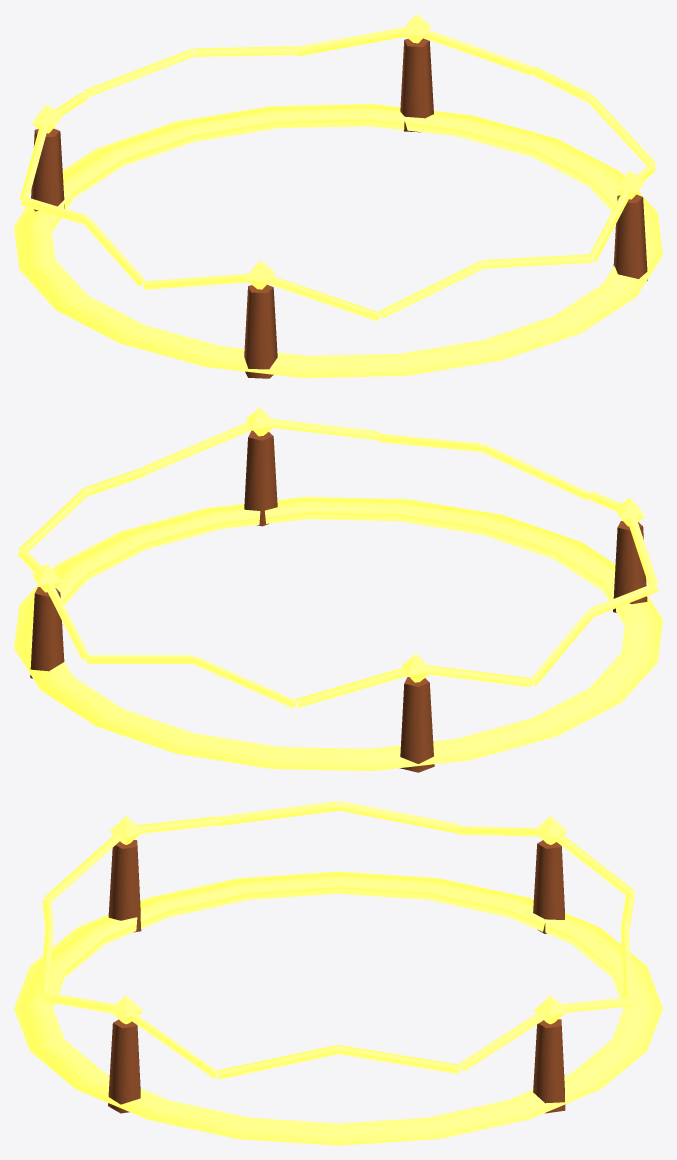
The model's file is consumable_overload.glb.
3 renders of one model, top to bottom at view 1: azimuth 30°, elevation 25°; view 2: azimuth 150°, elevation 25°; view 3: azimuth 270°, elevation 25°, orthographic.
Visible parts, largest first — view 1: overload_ring_band, overload_pole_1_rod, overload_pole_3_rod, overload_pole_0_rod, overload_pole_2_rod, overload_arc_0_3, overload_arc_2_3, overload_arc_3_0, overload_arc_0_2, overload_arc_2_1, overload_arc_0_1, overload_arc_2_2 (+7 smaller); view 2: overload_ring_band, overload_pole_2_rod, overload_pole_0_rod, overload_pole_3_rod, overload_pole_1_rod, overload_arc_2_0, overload_arc_3_3, overload_arc_0_0, overload_arc_0_2, overload_arc_1_3, overload_arc_2_1, overload_arc_2_2 (+7 smaller); view 3: overload_ring_band, overload_pole_0_rod, overload_pole_3_rod, overload_pole_1_rod, overload_pole_2_rod, overload_arc_3_2, overload_arc_3_1, overload_arc_1_1, overload_arc_1_2, overload_arc_3_0, overload_arc_2_0, overload_arc_3_3 (+11 smaller).
Boxes of the visible parts, <box> form: overload_ring_band: <box>14,104,662,378</box>; overload_pole_1_rod: <box>244,284,277,378</box>; overload_pole_3_rod: <box>400,38,433,132</box>; overload_pole_0_rod: <box>613,194,647,280</box>; overload_pole_2_rod: <box>31,128,64,211</box>; overload_arc_0_3: <box>268,276,380,321</box>; overload_arc_2_3: <box>295,27,405,56</box>; overload_arc_3_0: <box>424,29,532,75</box>; overload_arc_0_2: <box>378,260,485,318</box>; overload_arc_2_1: <box>84,48,195,97</box>; overload_arc_0_1: <box>482,254,593,268</box>; overload_arc_2_2: <box>193,46,299,57</box>; overload_ring_band: <box>14,497,662,771</box>; overload_pole_2_rod: <box>400,677,434,772</box>; overload_pole_0_rod: <box>244,430,277,526</box>; overload_pole_3_rod: <box>30,587,64,678</box>; overload_pole_1_rod: <box>613,521,647,612</box>; overload_arc_2_0: <box>295,667,407,707</box>; overload_arc_3_3: <box>144,421,251,473</box>; overload_arc_0_0: <box>270,418,380,440</box>; overload_arc_0_2: <box>481,444,589,500</box>; overload_arc_1_3: <box>426,665,532,687</box>; overload_arc_2_1: <box>191,655,295,708</box>; overload_arc_2_2: <box>85,655,192,663</box>; overload_ring_band: <box>14,871,662,1145</box>; overload_pole_0_rod: <box>108,1019,140,1113</box>; overload_pole_3_rod: <box>533,1019,565,1113</box>; overload_pole_1_rod: <box>108,840,141,932</box>; overload_pole_2_rod: <box>533,840,564,933</box>; overload_arc_3_2: <box>217,1045,338,1079</box>; overload_arc_3_1: <box>337,1045,460,1074</box>; overload_arc_1_1: <box>216,801,338,826</box>; overload_arc_1_2: <box>338,801,459,833</box>; overload_arc_3_0: <box>458,1010,546,1071</box>; overload_arc_2_0: <box>554,834,635,895</box>; overload_arc_3_3: <box>129,1012,217,1079</box>.
Bounding box in the file's own units: 0.53 × 0.1 × 0.53.
